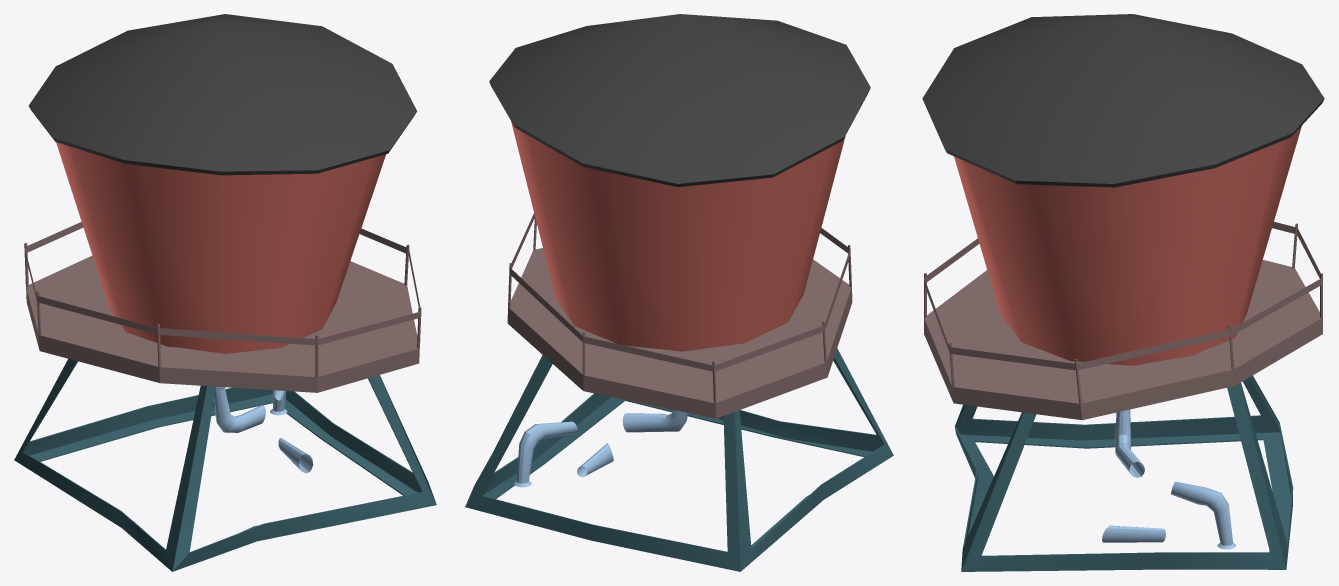
The model's file is Water_Tank.fbx.
The picture shows the model from 3 angles, left to right: view 1: azimuth 30°, elevation 25°; view 2: azimuth 150°, elevation 25°; view 3: azimuth 270°, elevation 25°; orthographic projection. The views are drawn at different scales.
Visible parts, largest first — view 1: Cylinder.022, Cylinder.021, Cube.033, Cube.032, Cylinder.023, Cylinder.024; view 2: Cylinder.022, Cylinder.021, Cube.033, Cube.032, Cylinder.023, Cylinder.024; view 3: Cylinder.022, Cylinder.021, Cube.033, Cube.032, Cylinder.023, Cylinder.024.
Part boxes in pixels (x1,y1,x2,y2): Cylinder.022: [28, 14, 416, 175]; Cylinder.021: [56, 142, 385, 353]; Cube.033: [24, 222, 421, 392]; Cube.032: [14, 359, 436, 571]; Cylinder.023: [214, 386, 287, 432]; Cylinder.024: [278, 438, 313, 473]; Cylinder.022: [489, 14, 870, 186]; Cylinder.021: [511, 121, 845, 351]; Cube.033: [507, 213, 852, 418]; Cube.032: [465, 348, 893, 571]; Cylinder.023: [514, 410, 687, 487]; Cylinder.024: [577, 443, 613, 476]; Cylinder.022: [922, 14, 1324, 187]; Cylinder.021: [954, 126, 1301, 365]; Cube.033: [924, 221, 1322, 420]; Cube.032: [954, 375, 1293, 571]; Cylinder.023: [1115, 409, 1235, 549]; Cylinder.024: [1102, 525, 1165, 542].
Size of the model in its own units: 353 by 471 by 353.
